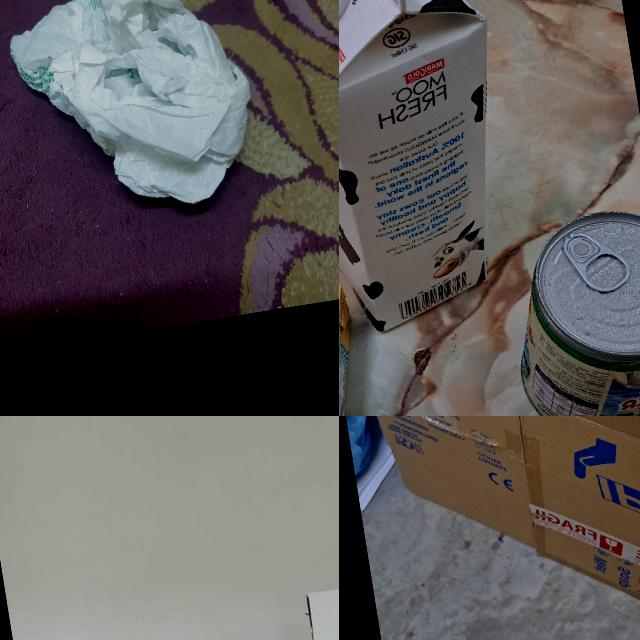aba de lata: (562, 226, 632, 298)
caixinha: (339, 0, 534, 343)
lata: (496, 204, 640, 416)
papelão: (339, 416, 640, 640)
sacola plástica: (0, 0, 277, 243)
